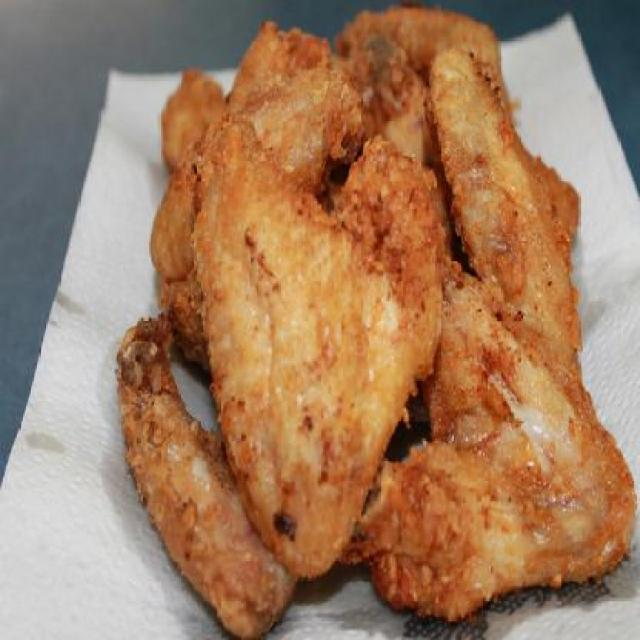Deep fried chicken wing: (116, 23, 638, 614)
